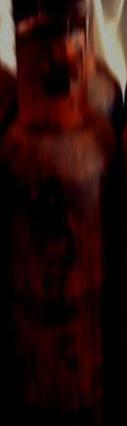cylinder: (1, 1, 127, 426)
